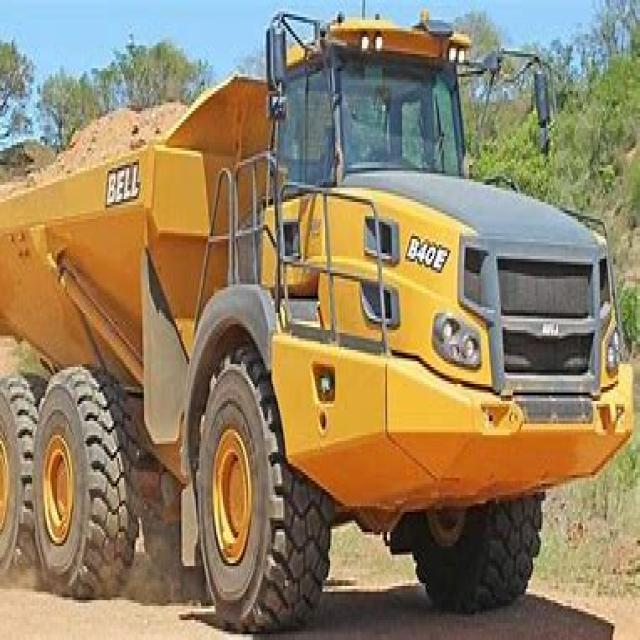dump_truck: (0, 0, 633, 626)
